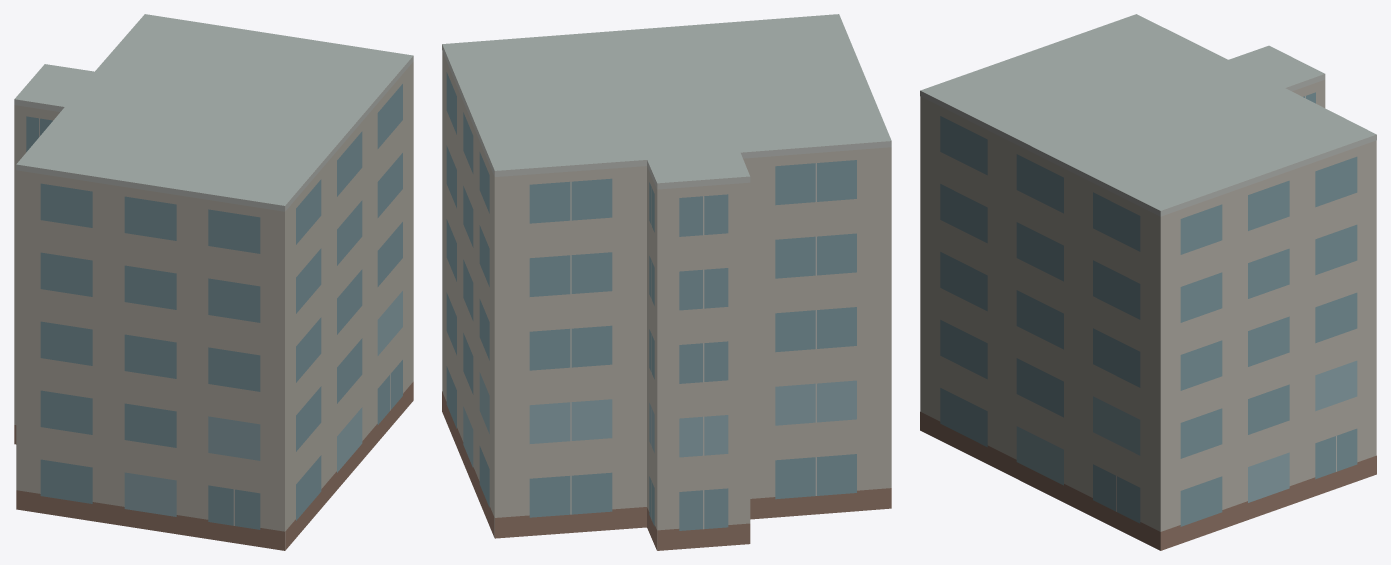
The model's file is survey-upis-32840657.glb.
3 views of the same model, side by side, from view 1: azimuth 30°, elevation 25°; view 2: azimuth 150°, elevation 25°; view 3: azimuth 270°, elevation 25° (orthographic). The views are drawn at different scales.
Parts seen in each view (by area): view 1: survey-upis-32840657.tmp; view 2: survey-upis-32840657.tmp; view 3: survey-upis-32840657.tmp.
Boxes of the visible parts, x1=… form: survey-upis-32840657.tmp: x1=14, y1=14, x2=413, y2=550; survey-upis-32840657.tmp: x1=442, y1=14, x2=891, y2=550; survey-upis-32840657.tmp: x1=920, y1=14, x2=1376, y2=550.
Bounding box in the file's own units: 18.03 × 14.5 × 17.66.
